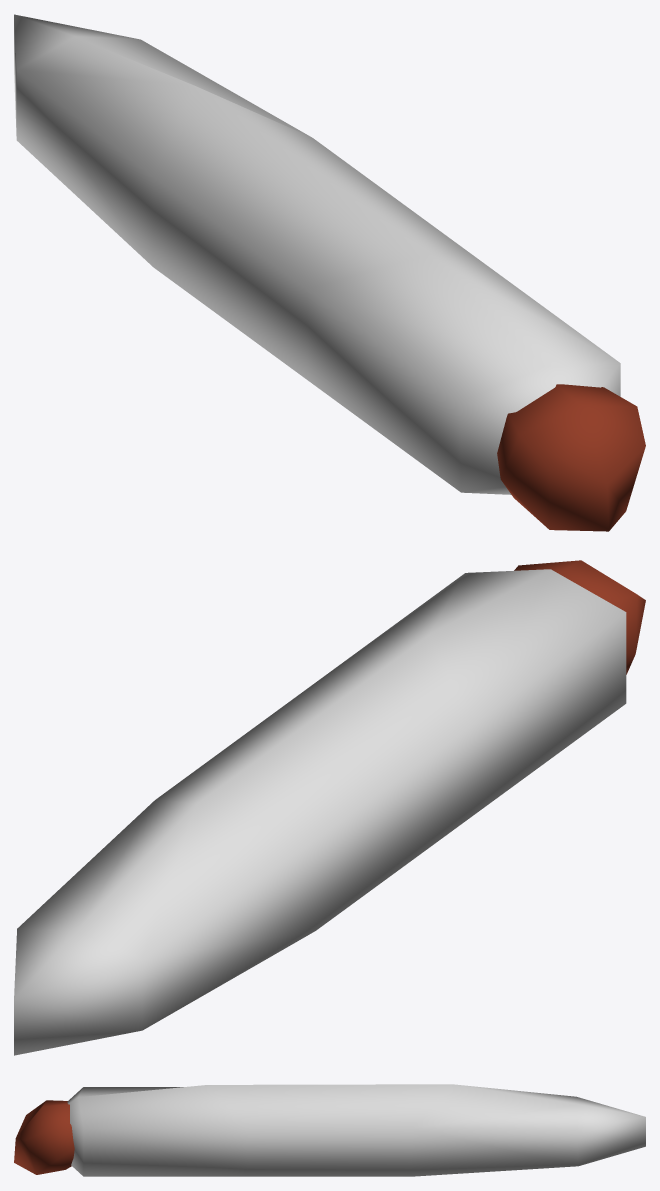
Rendered from larva.fbx.
The picture shows the model from 3 angles, top to bottom: view 1: azimuth 30°, elevation 25°; view 2: azimuth 150°, elevation 25°; view 3: azimuth 270°, elevation 25°; orthographic projection. The views are drawn at different scales.
Parts seen in each view (by area): view 1: MothLarva.001; view 2: MothLarva.001; view 3: MothLarva.001.
Part boxes in pixels (<box>): MothLarva.001: <box>14,14,645,531</box>; MothLarva.001: <box>14,560,645,1055</box>; MothLarva.001: <box>14,1084,645,1176</box>.
Size of the model in its own units: 11.42 by 10.82 by 73.4.
